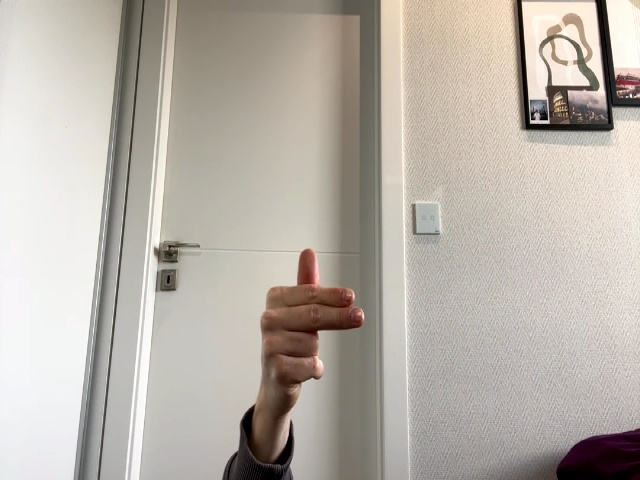N: (259, 249, 364, 392)
